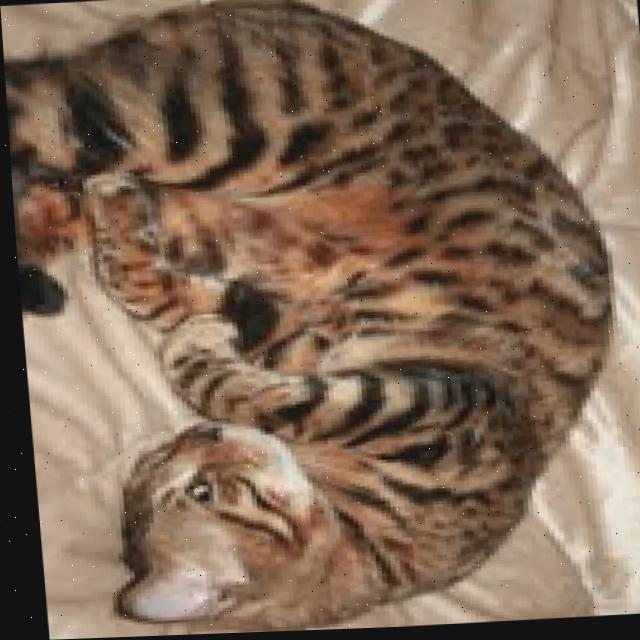Bengal: (0, 0, 637, 640)
